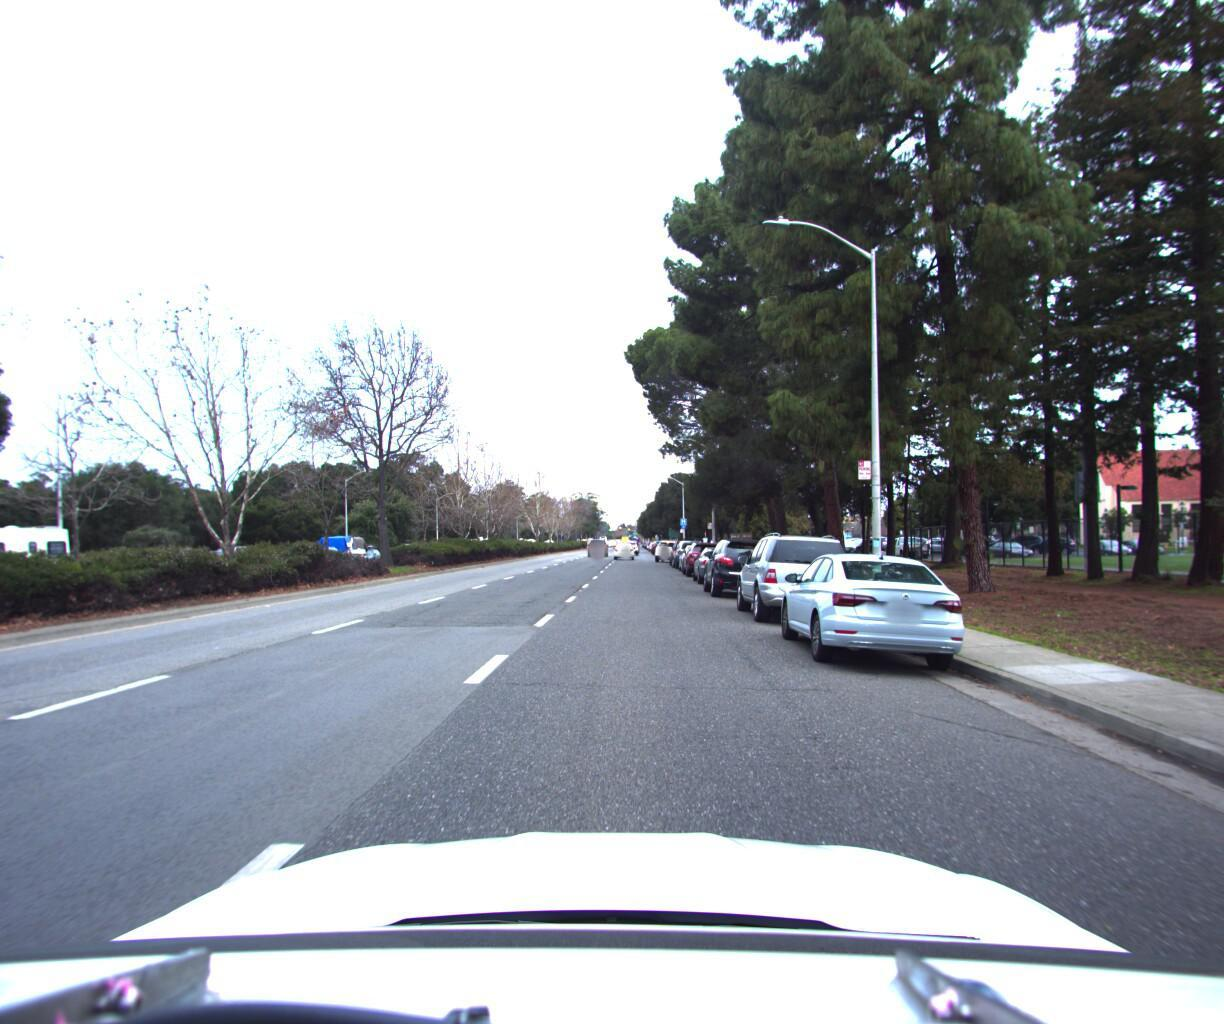car: (777, 539, 981, 680), (735, 523, 862, 627), (702, 529, 783, 598), (692, 538, 747, 582), (680, 532, 730, 573), (670, 532, 707, 563), (667, 530, 701, 560), (652, 533, 686, 556), (611, 536, 634, 554), (589, 532, 609, 552)
other_vehicle: (314, 530, 370, 567)
